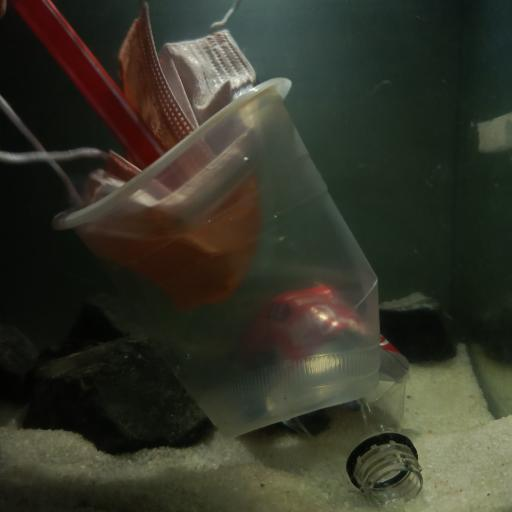mask: (6, 0, 254, 291)
plastic_bottle: (246, 279, 420, 502)
plastic_cup: (56, 77, 381, 434)
plastic_straw: (19, 0, 163, 160)
